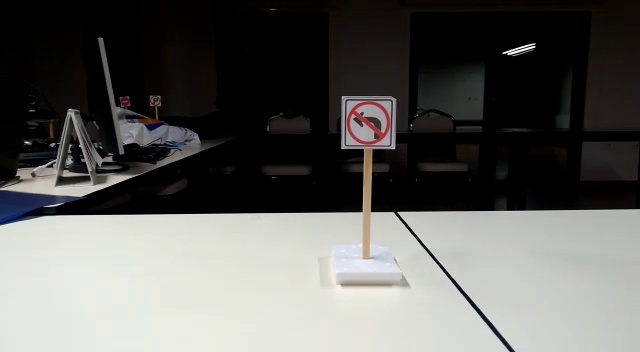sola_donulmez: (343, 96, 394, 150)
